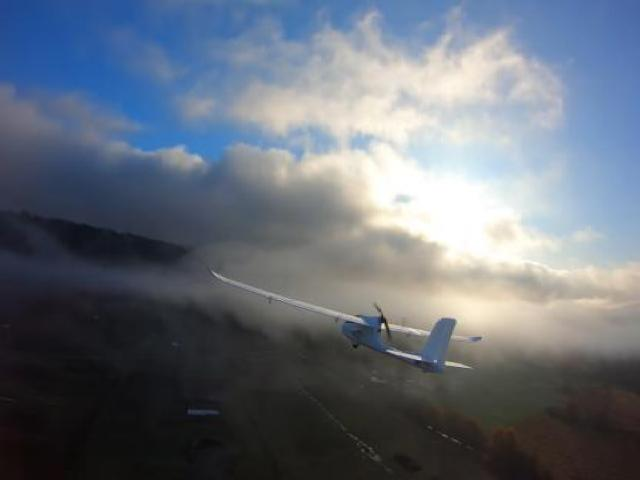uav: (203, 253, 488, 386)
